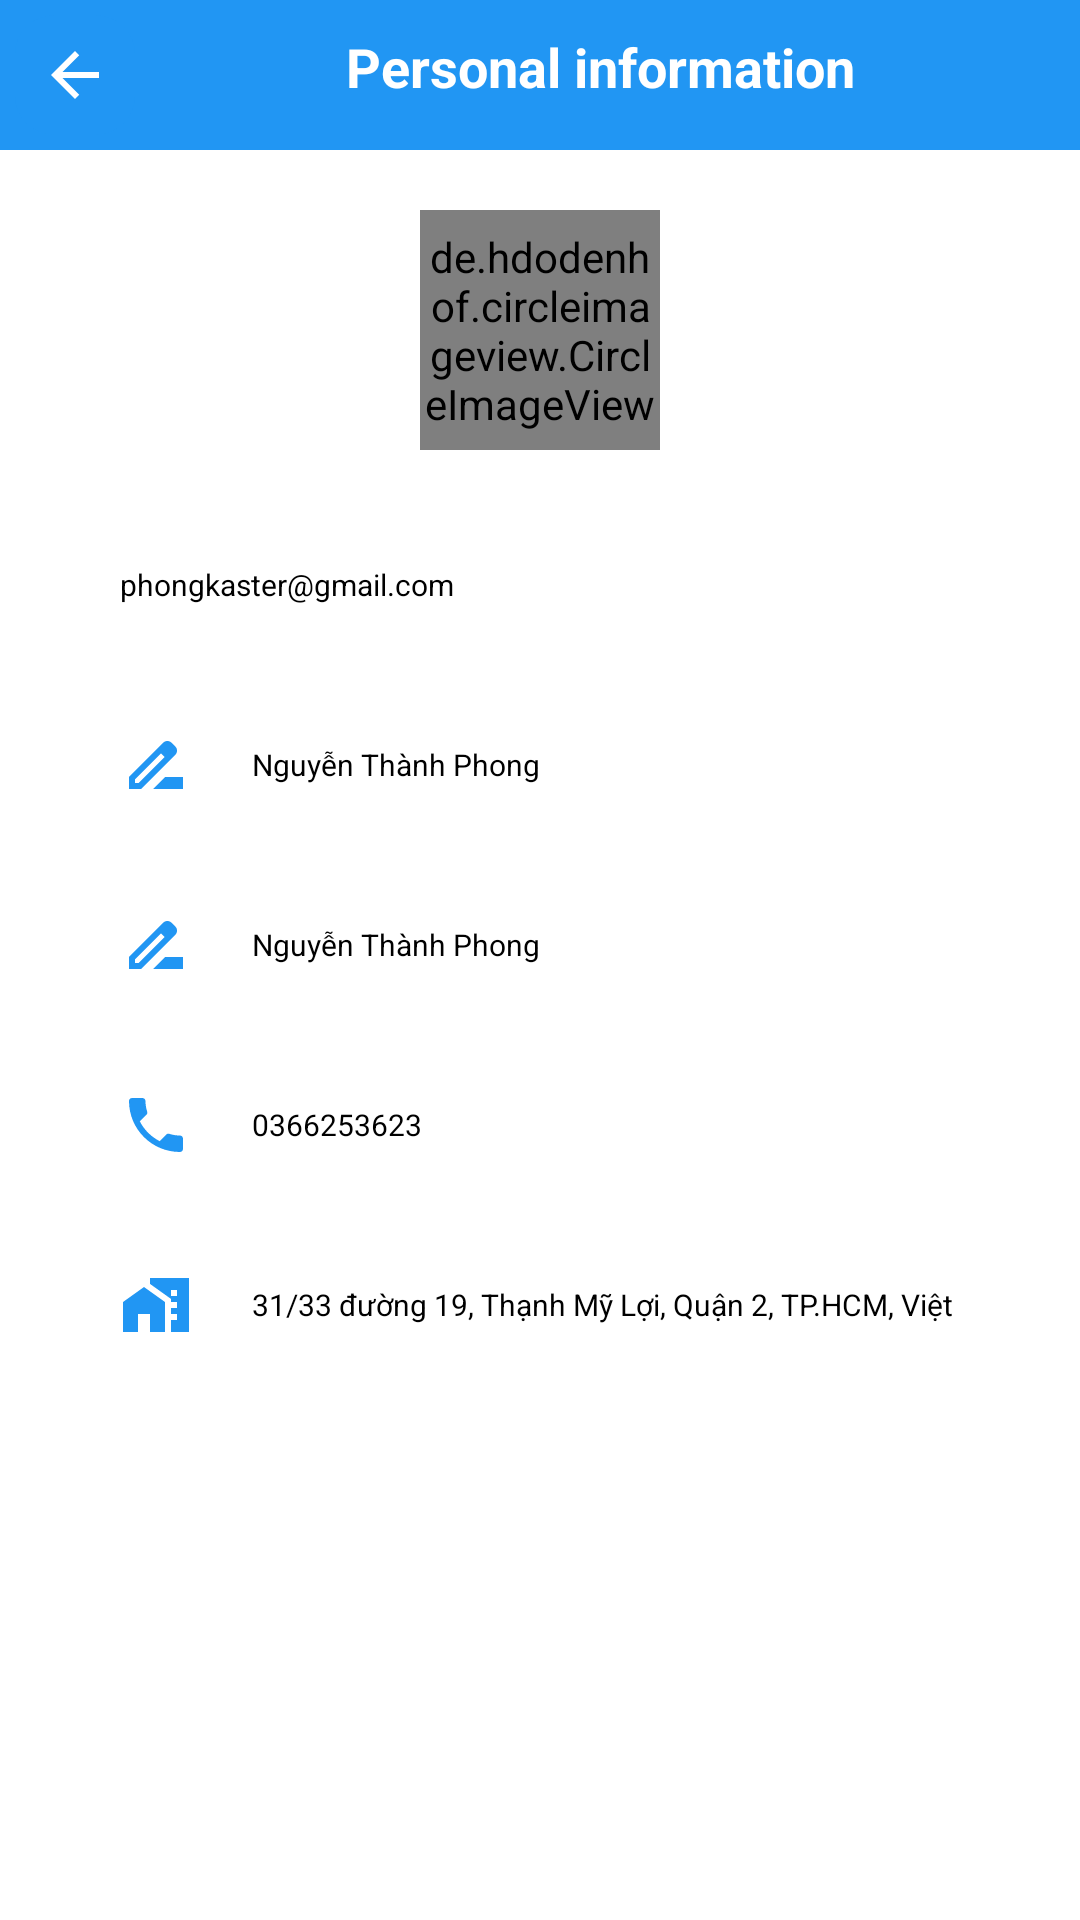

Named icons in this screenshot (1080px x 1920px) and their centers, [x,y]:
arrow back: [75,75]
